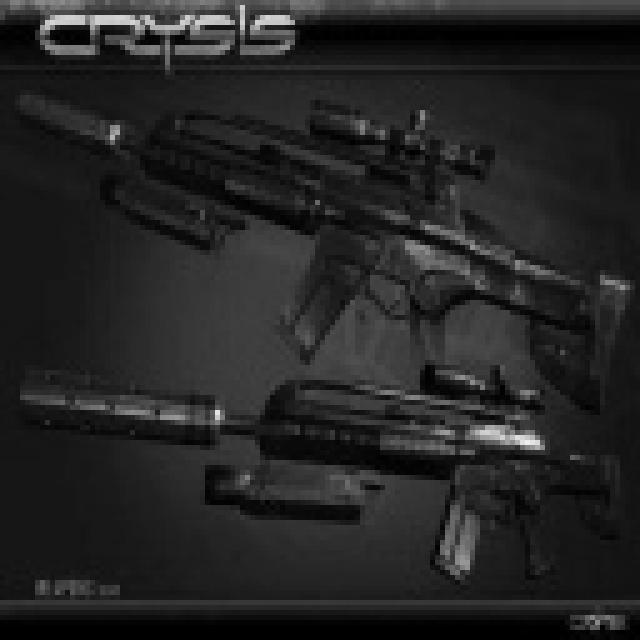Rifle: (0, 56, 640, 339), (0, 360, 640, 640), (59, 209, 496, 358), (255, 320, 285, 640), (464, 39, 486, 218), (267, 446, 270, 640), (0, 161, 31, 167)
